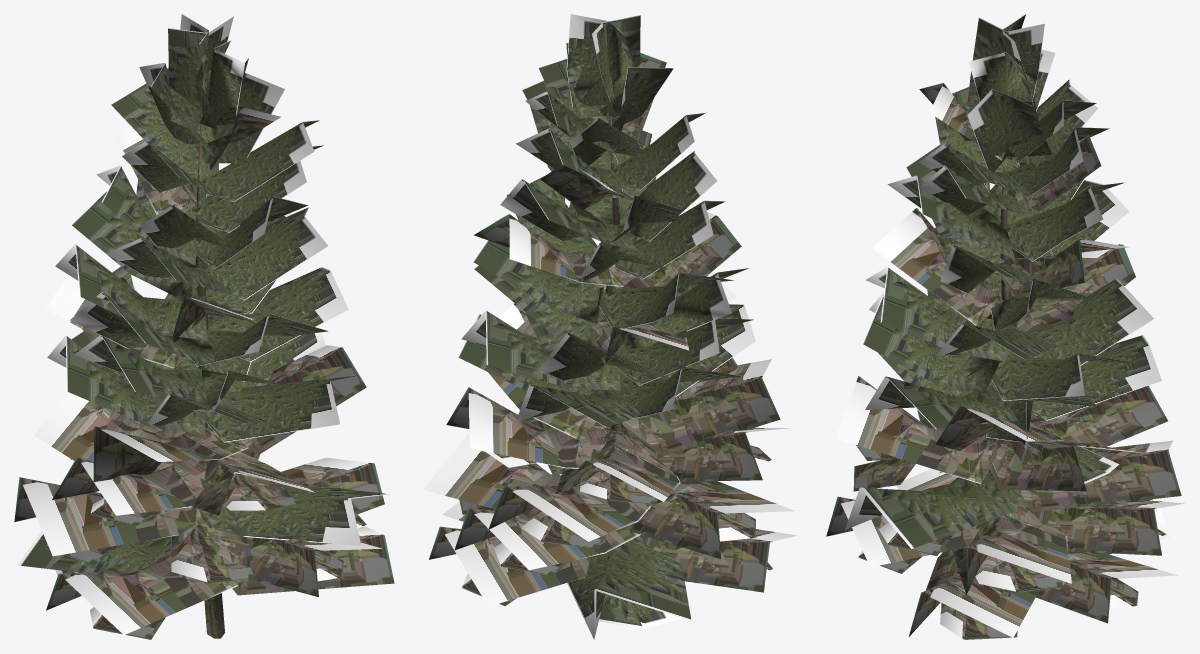
The model's file is Fir06-30.gltf.
3 views of the same model, side by side, from view 1: azimuth 30°, elevation 25°; view 2: azimuth 150°, elevation 25°; view 3: azimuth 270°, elevation 25° (orthographic).
Visible parts, largest first — view 1: FirLeaves, Fir06-30; view 2: FirLeaves; view 3: FirLeaves.
Part boxes in pixels (x1,y1,x2,y2): FirLeaves: (14, 14, 394, 639); Fir06-30: (195, 102, 225, 638); FirLeaves: (423, 14, 796, 639); FirLeaves: (826, 14, 1184, 639).
Size of the model in its own units: 70.27 by 121 by 66.12.
2 materials, 2 textured.
